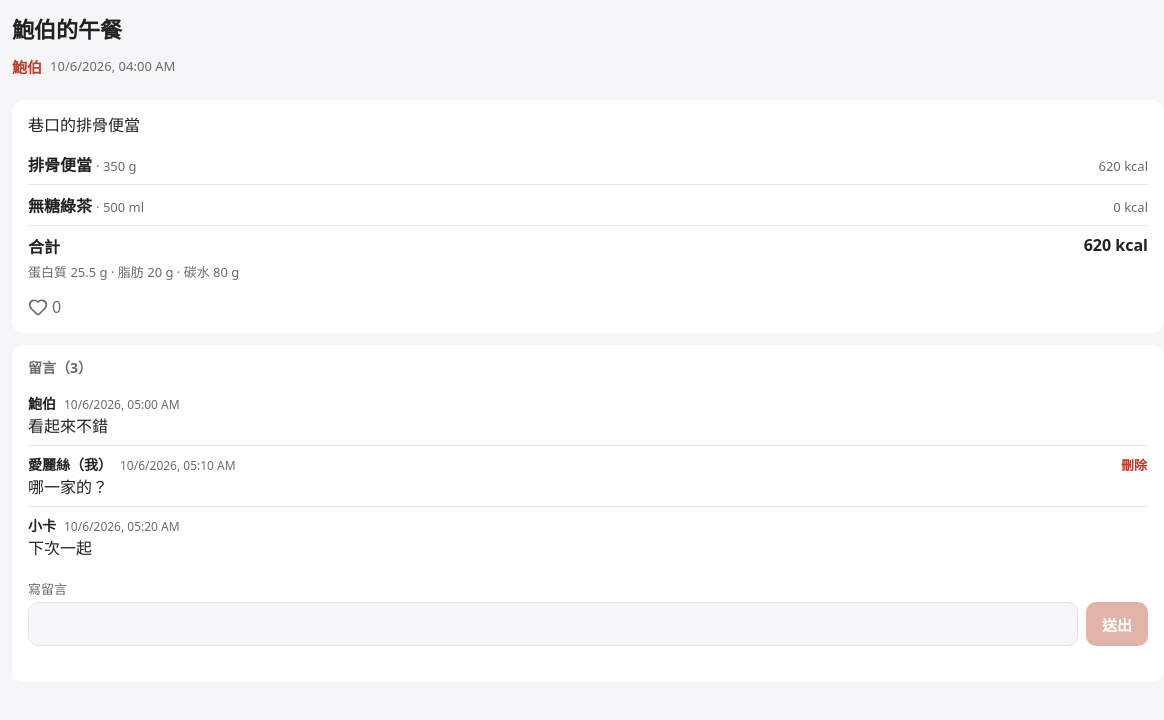
Test case: 餐點頁：看不到、載入失敗 › 按讚時那一餐已經看不到了（404）：整頁換成「看不到這一餐」
Click the button named "讚，鮑伯的午餐": (45, 307) 20,285 -> 69,329
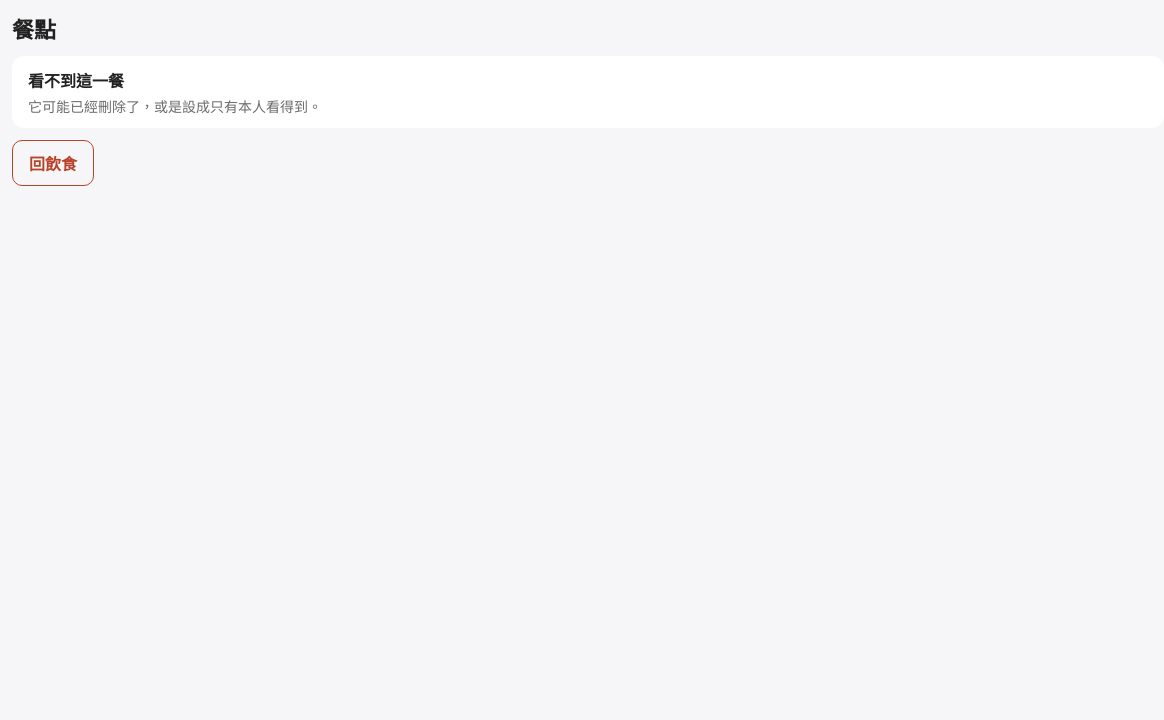
Expected: the text "看不到這一餐" is shown, 28,70 -> 124,92
Expected: the text "看起來不錯" is gone
